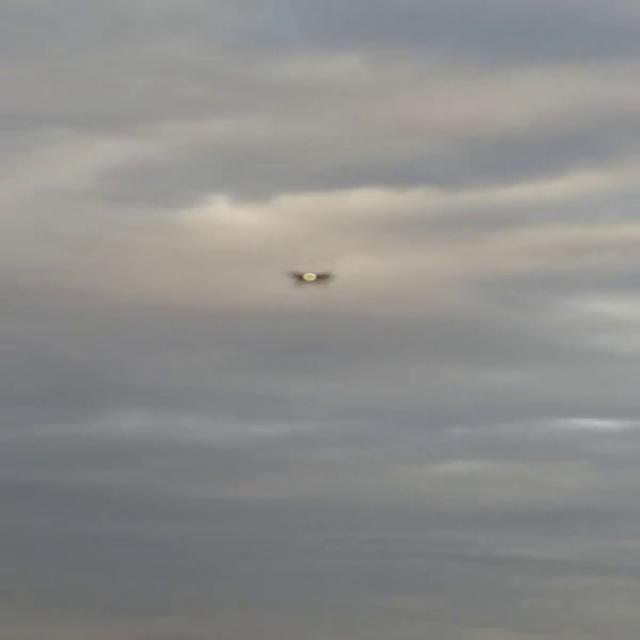drone: (287, 264, 339, 289)
